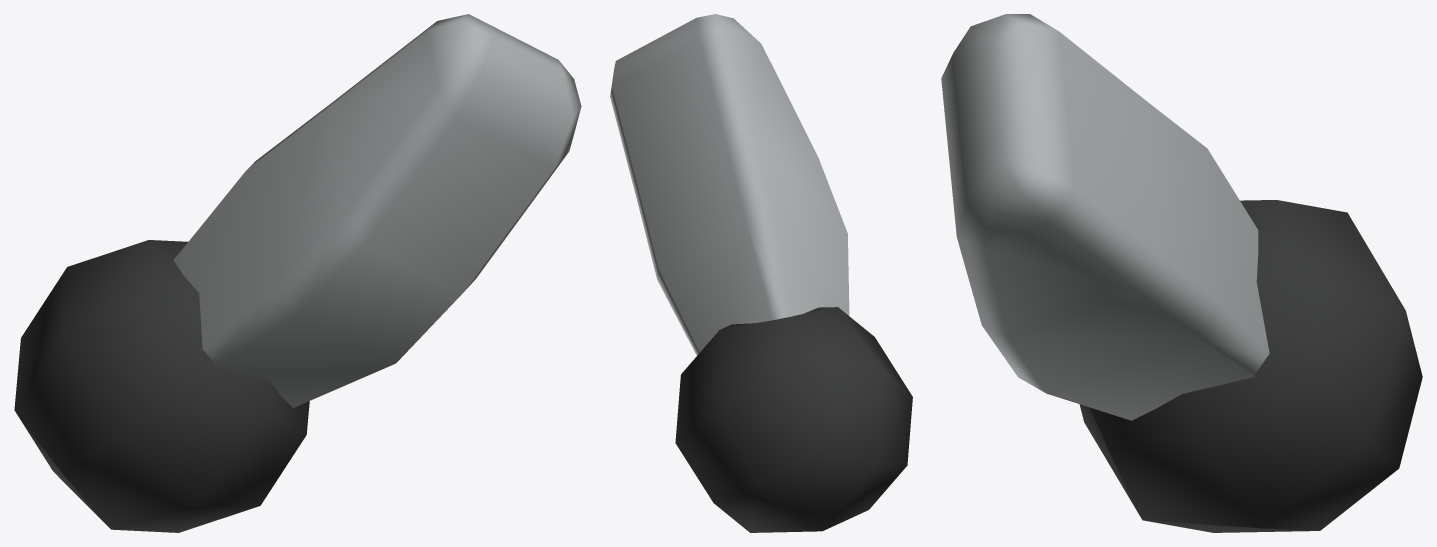
Rendered from Drone_002_R_Finger_005.fbx.
The picture shows the model from 3 angles, left to right: view 1: azimuth 30°, elevation 25°; view 2: azimuth 150°, elevation 25°; view 3: azimuth 270°, elevation 25°; orthographic projection. The views are drawn at different scales.
Visible parts, largest first — view 1: Drone_002_R_Finger_005; view 2: Drone_002_R_Finger_005; view 3: Drone_002_R_Finger_005.
Boxes of the visible parts, x1,y1,x2,y2 form: Drone_002_R_Finger_005: [14, 14, 581, 532]; Drone_002_R_Finger_005: [610, 14, 912, 532]; Drone_002_R_Finger_005: [941, 14, 1422, 532].
Size of the model in its own units: 4.6 by 3.57 by 5.19.
